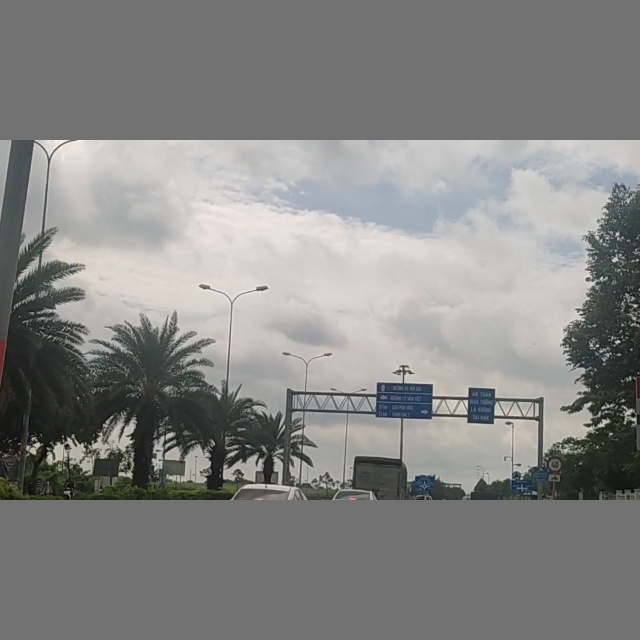P.127*40: (546, 454, 563, 473)
